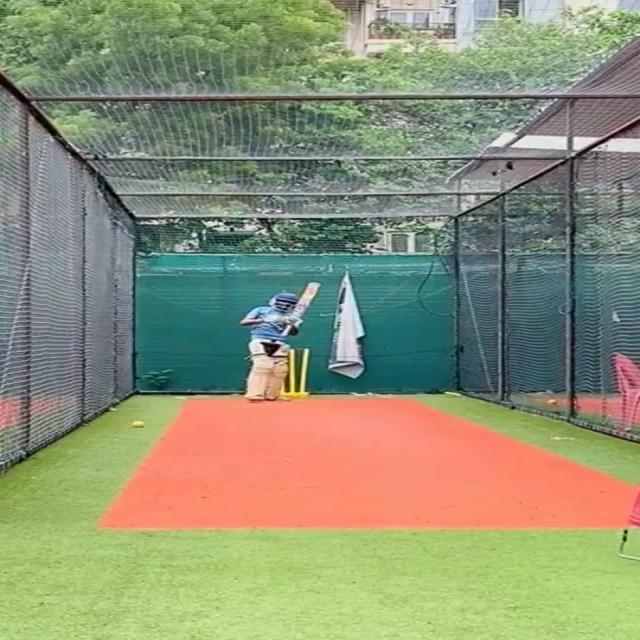ball: (133, 420, 147, 428)
stump: (289, 348, 314, 396)
